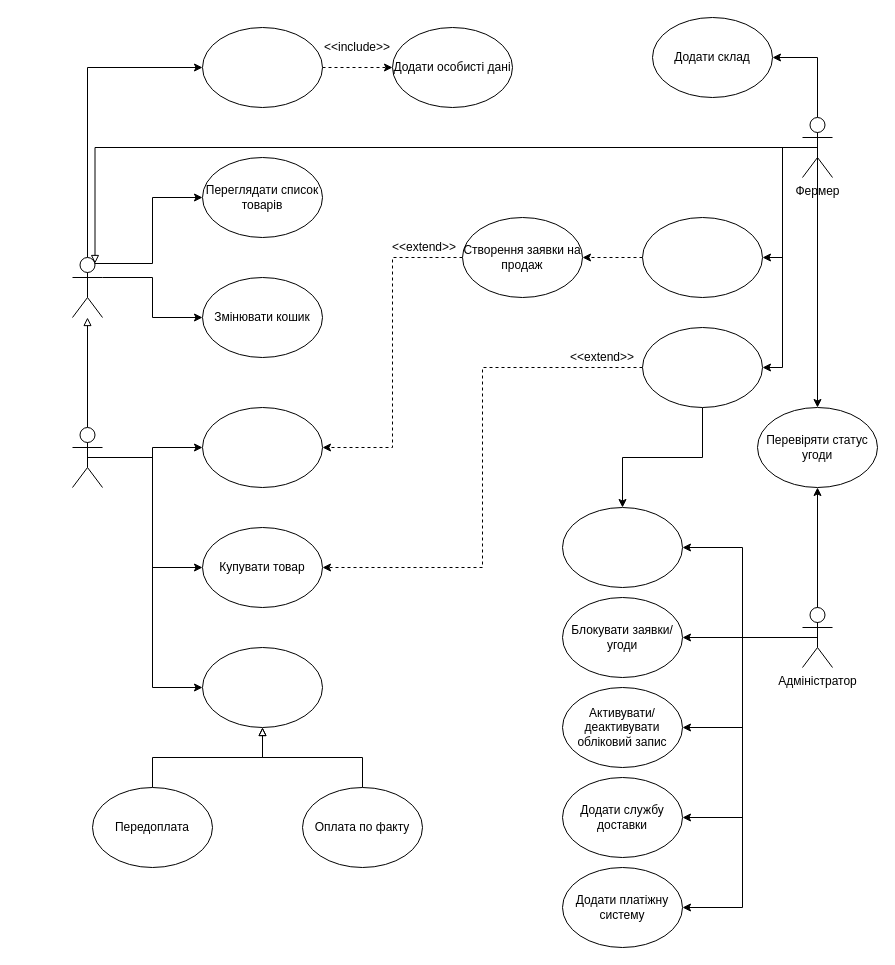
The diagram is 895 pixels wide and 965 high, and some of its shapes have lost their labels. Each missing label, with the centre of its shape:
Додати товар: the point at 702,257
Замовляти товар: the point at 262,447
Зареєструватися: the point at 262,67
Клєнт: the point at 87,457
Незареєстрований клієнт: the point at 87,287
Продати товар з залишків на складі: the point at 702,367
Сплачувати товар: the point at 262,687
Створювати обліковий запис: the point at 622,547
